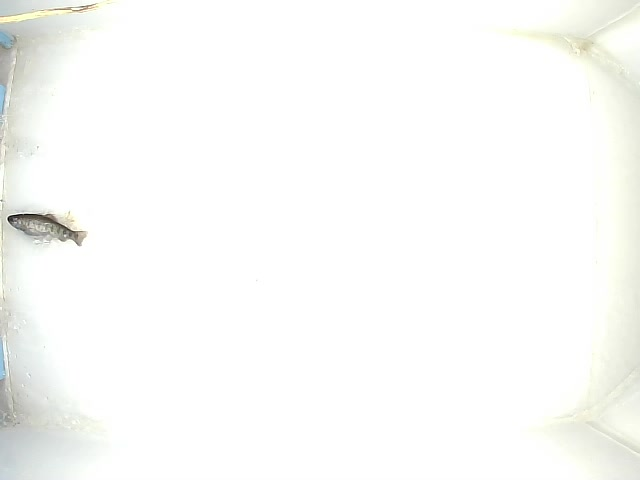fish: (6, 211, 88, 248)
